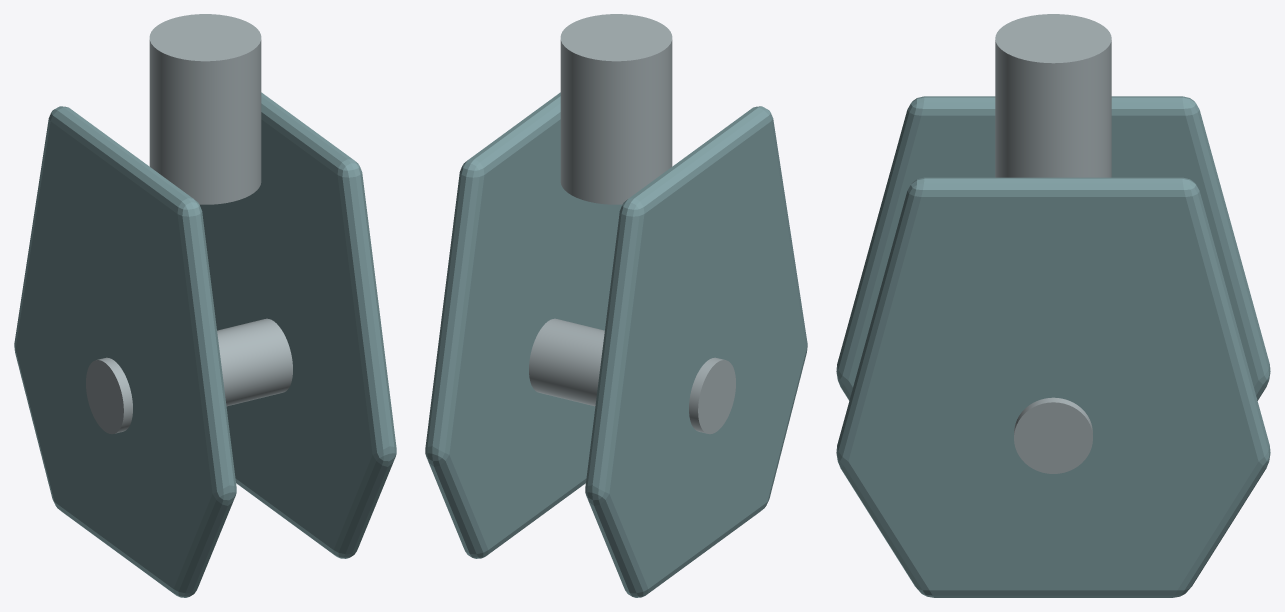
The model's file is trawl_block.glb.
3 renders of one model, left to right at view 1: azimuth 30°, elevation 25°; view 2: azimuth 150°, elevation 25°; view 3: azimuth 270°, elevation 25°, orthographic. The views are drawn at different scales.
Visible parts, largest first — view 1: trawl_block Warm white painted steel, trawl_block Fixed_Galvanized; view 2: trawl_block Warm white painted steel, trawl_block Fixed_Galvanized; view 3: trawl_block Warm white painted steel, trawl_block Fixed_Galvanized.
Boxes of the visible parts, box(x1,y1,x2,y2) form: trawl_block Warm white painted steel: box(14, 92, 396, 597); trawl_block Fixed_Galvanized: box(86, 14, 292, 434); trawl_block Warm white painted steel: box(425, 92, 807, 597); trawl_block Fixed_Galvanized: box(529, 14, 735, 434); trawl_block Warm white painted steel: box(836, 96, 1270, 597); trawl_block Fixed_Galvanized: box(995, 14, 1111, 473).
Size of the model in its own units: 0.22 by 0.52 by 0.3951.
